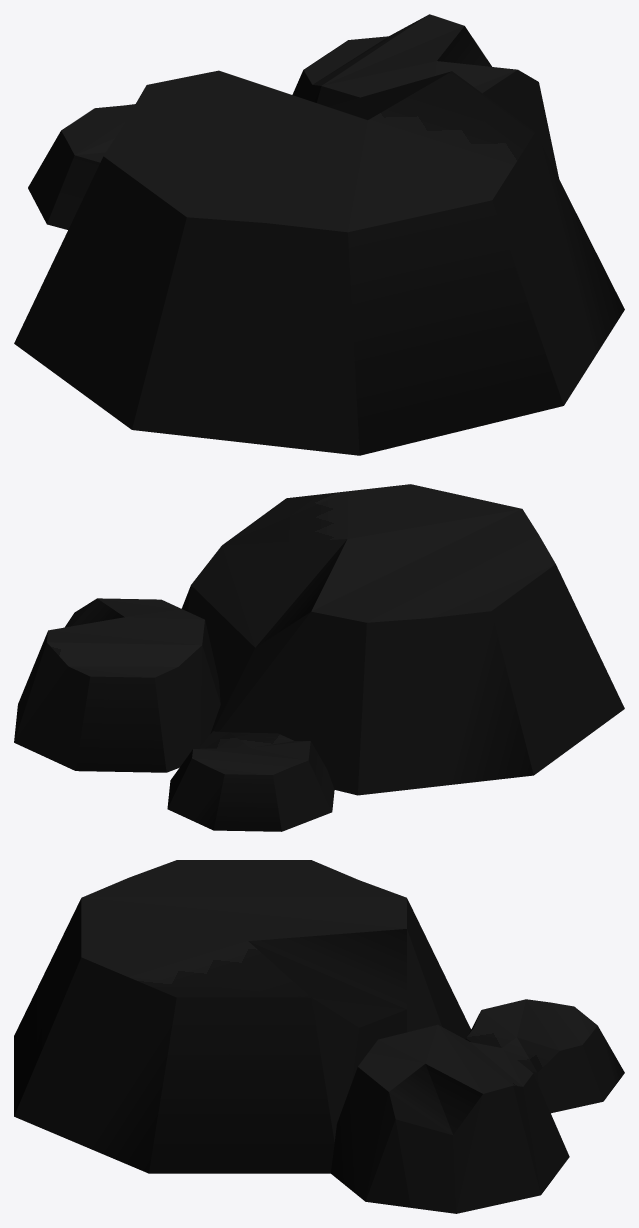
Rendered from stones.gltf.
The picture shows the model from 3 angles, top to bottom: view 1: azimuth 30°, elevation 25°; view 2: azimuth 150°, elevation 25°; view 3: azimuth 270°, elevation 25°; orthographic projection. The views are drawn at different scales.
Visible parts, largest first — view 1: Stones; view 2: Stones; view 3: Stones.
Part boxes in pixels (x1,y1,x2,y2): Stones: (14,14,624,455); Stones: (14,484,624,831); Stones: (14,860,624,1213).
Size of the model in its own units: 1.46 by 0.45 by 1.6.
Materials: 1 (1 with a texture image).
